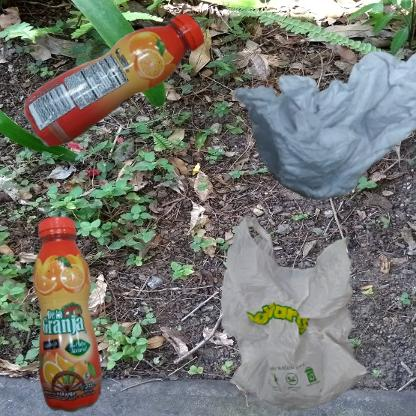bolsa: (213, 213, 380, 416)
botella: (10, 10, 249, 169), (10, 213, 137, 416)
papel: (213, 10, 416, 231)
